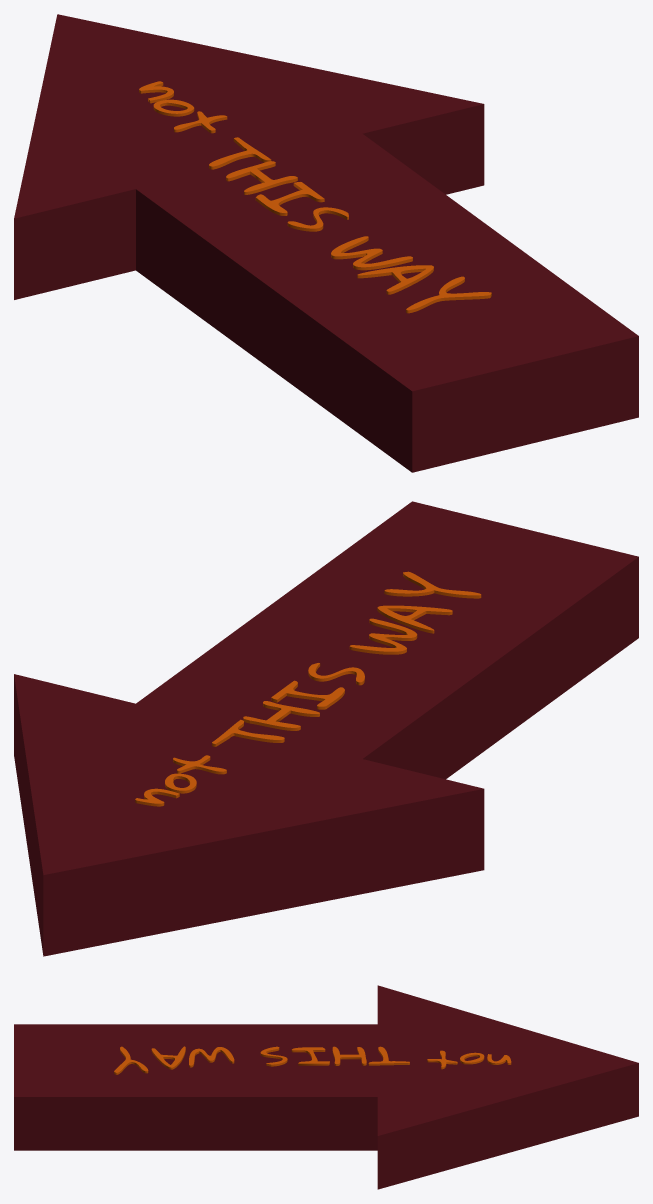
File: sign_wrong_left.fbx
The picture shows the model from 3 angles, top to bottom: view 1: azimuth 30°, elevation 25°; view 2: azimuth 150°, elevation 25°; view 3: azimuth 270°, elevation 25°; orthographic projection. The views are drawn at different scales.
Visible parts, largest first — view 1: SingWrongLeft; view 2: SingWrongLeft; view 3: SingWrongLeft.
Part boxes in pixels (x1,y1,x2,y2): SingWrongLeft: [14, 14, 638, 472]; SingWrongLeft: [14, 501, 638, 956]; SingWrongLeft: [14, 985, 638, 1189].
Size of the model in its own units: 386 by 66.25 by 676.
